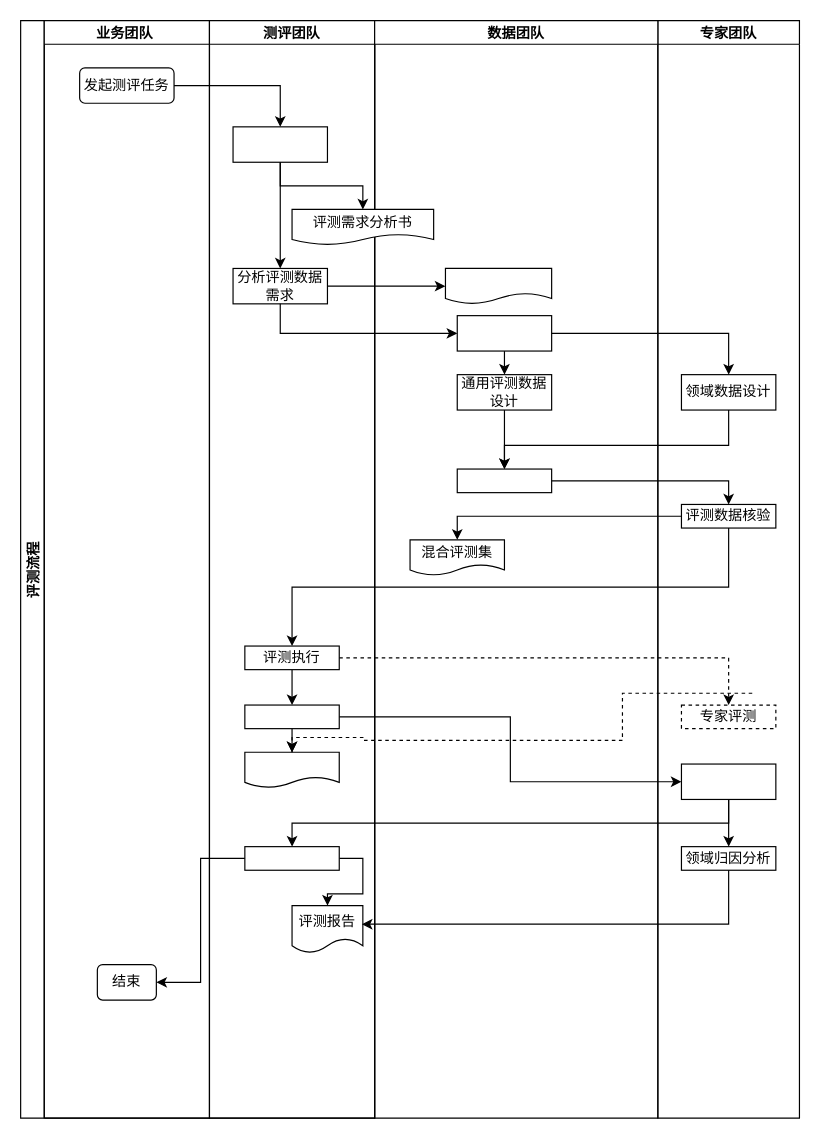
This 820x1139 diagram has some shape labels left out. Each missing label, with the centre of its shape:
"对接测评需求" belongs at point (279, 144).
"数据设计拆分" belongs at point (504, 332).
"评测报告制作" belongs at point (291, 857).
"评测数据制作" belongs at point (504, 480).
"评测数据设计书" belongs at point (498, 285).
"评测结果" belongs at point (291, 769).
"评测结果核验" belongs at point (728, 781).
"通用评测" belongs at point (291, 716).
